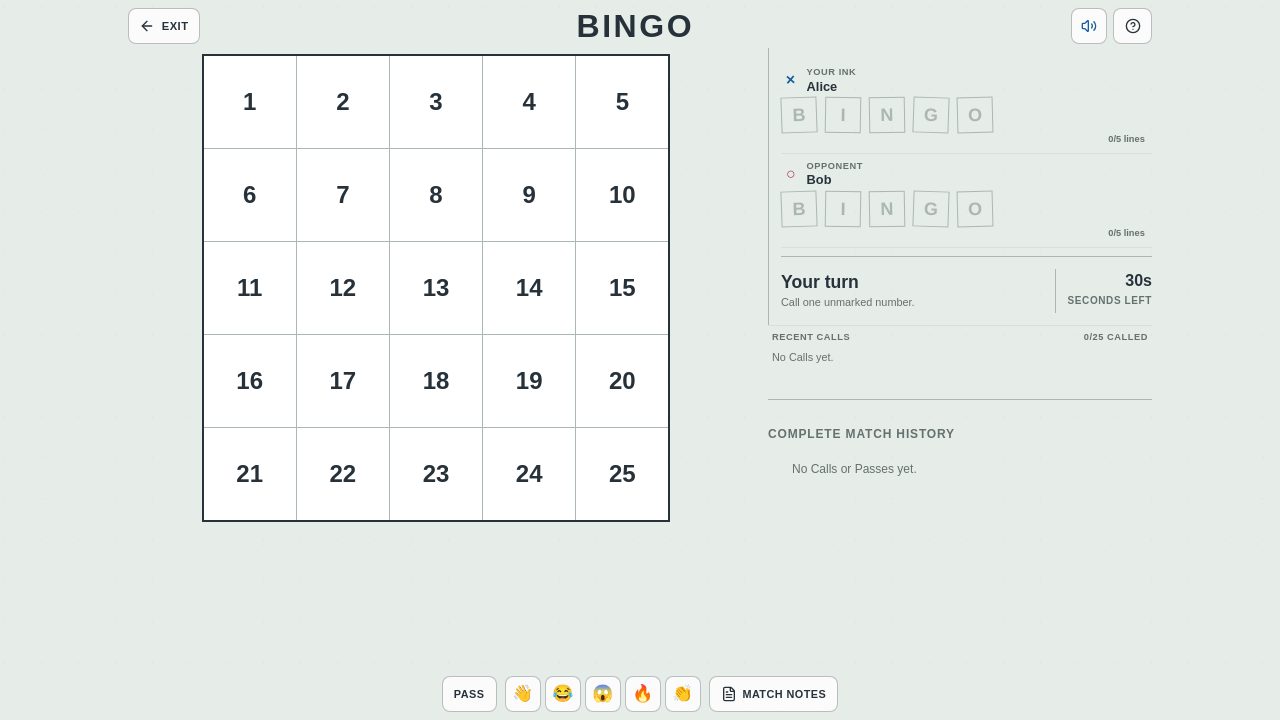
BingoMatchplay › opens rules and Match notes as sheets without adding persistent rows
This screenshot has width=1280, height=720.
Click the button named "Bingo rules".
click(1133, 26)  # box [1113, 8, 1152, 44]
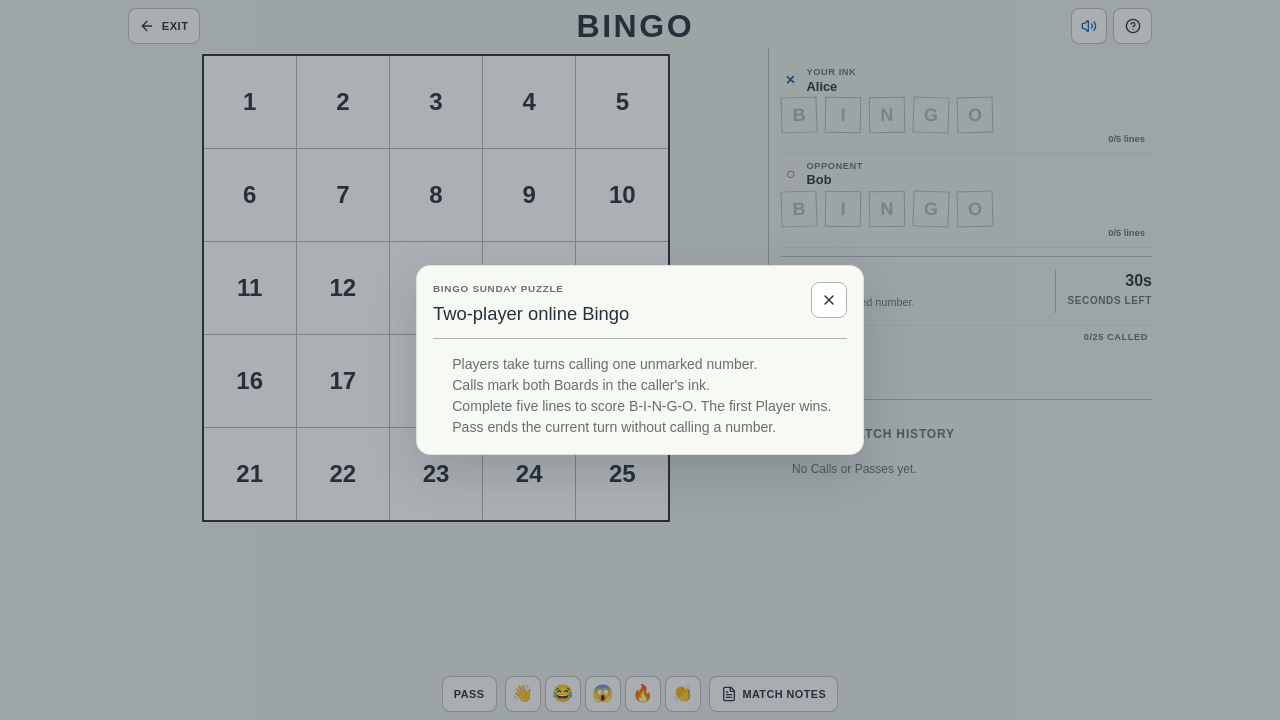
Expected: the dialog shows "Two-player online Bingo", [433, 303, 629, 324]
Click the button named "Close Bingo rules".
click(829, 300)  # box [811, 282, 847, 318]
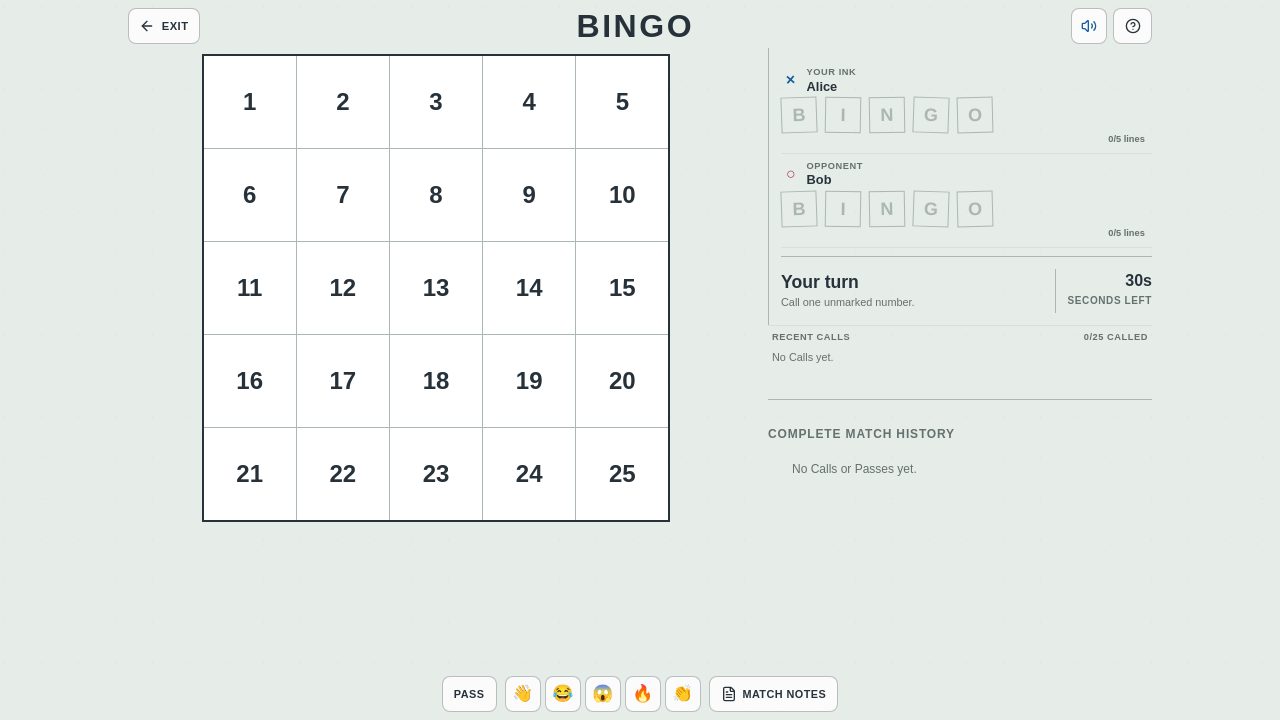
Expected: the dialog is gone
Click the button "Match notes".
click(773, 694)  # box [709, 676, 838, 712]
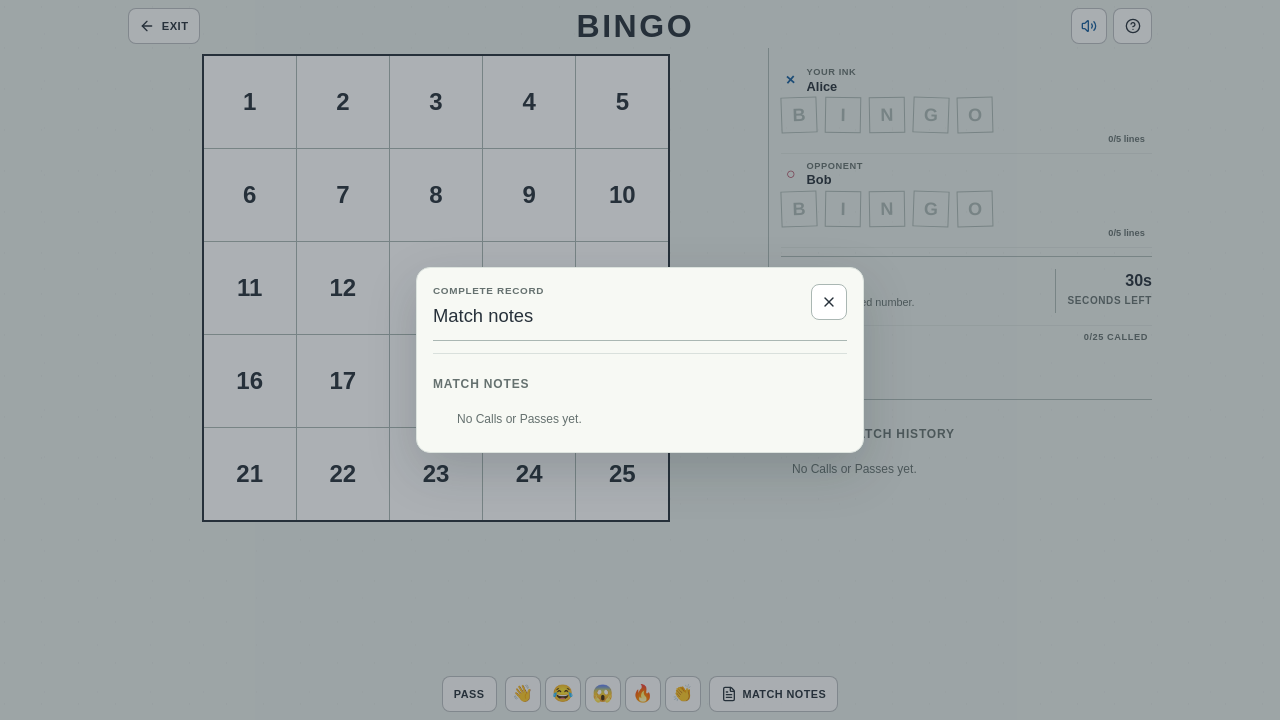
Expected: the dialog shows "Match notes", [433, 305, 533, 326]
Click the button named "Close Match notes".
click(829, 302)  # box [811, 284, 847, 320]
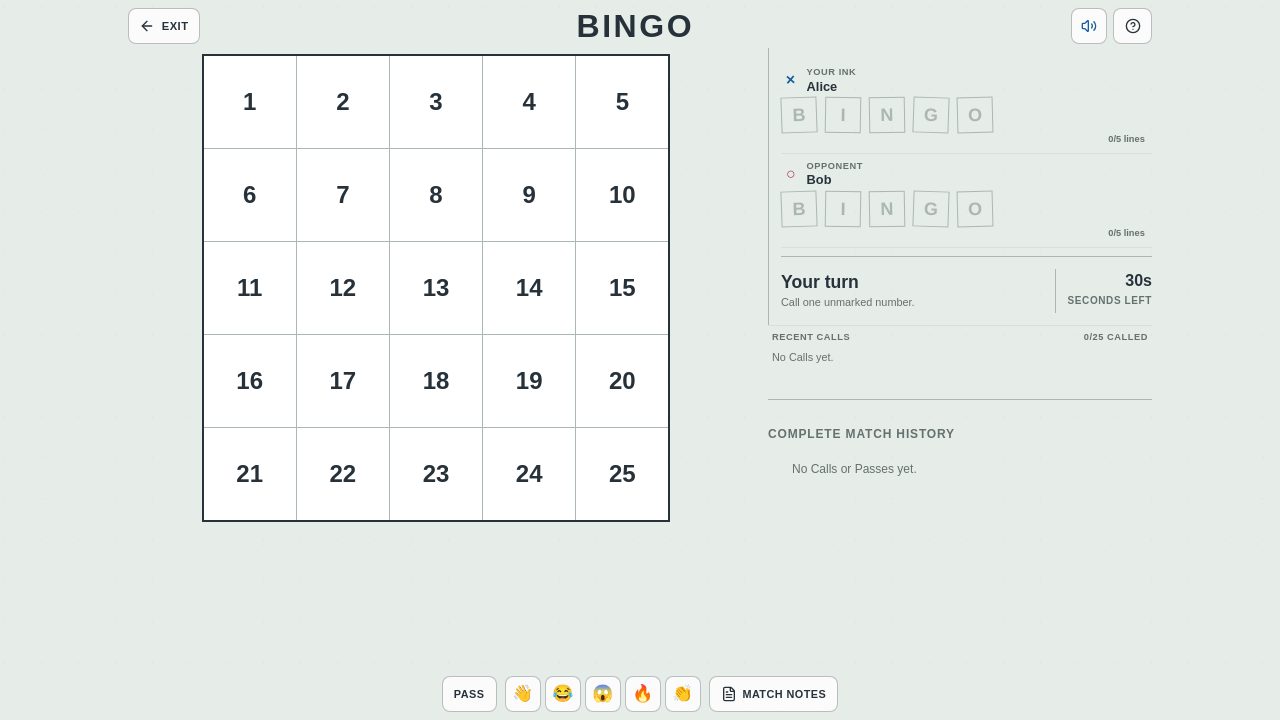
Expected: the dialog is gone
